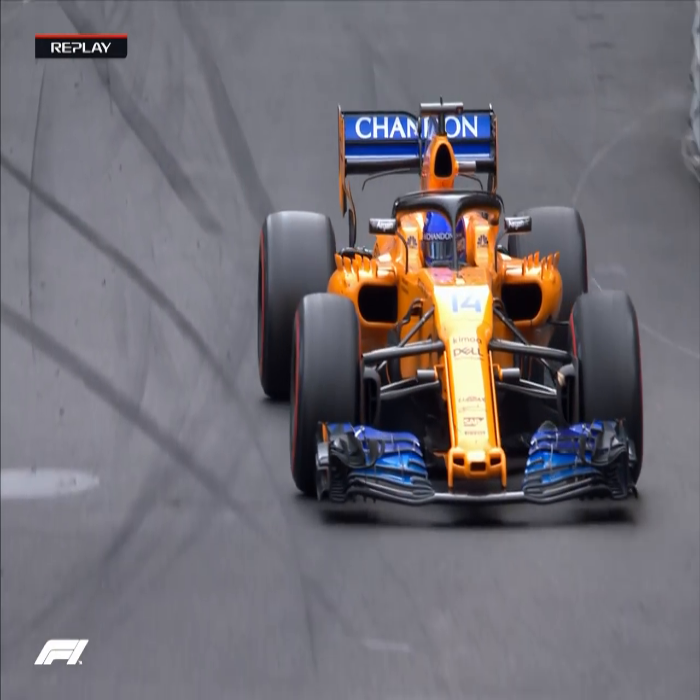f1_car: (251, 92, 661, 527)
